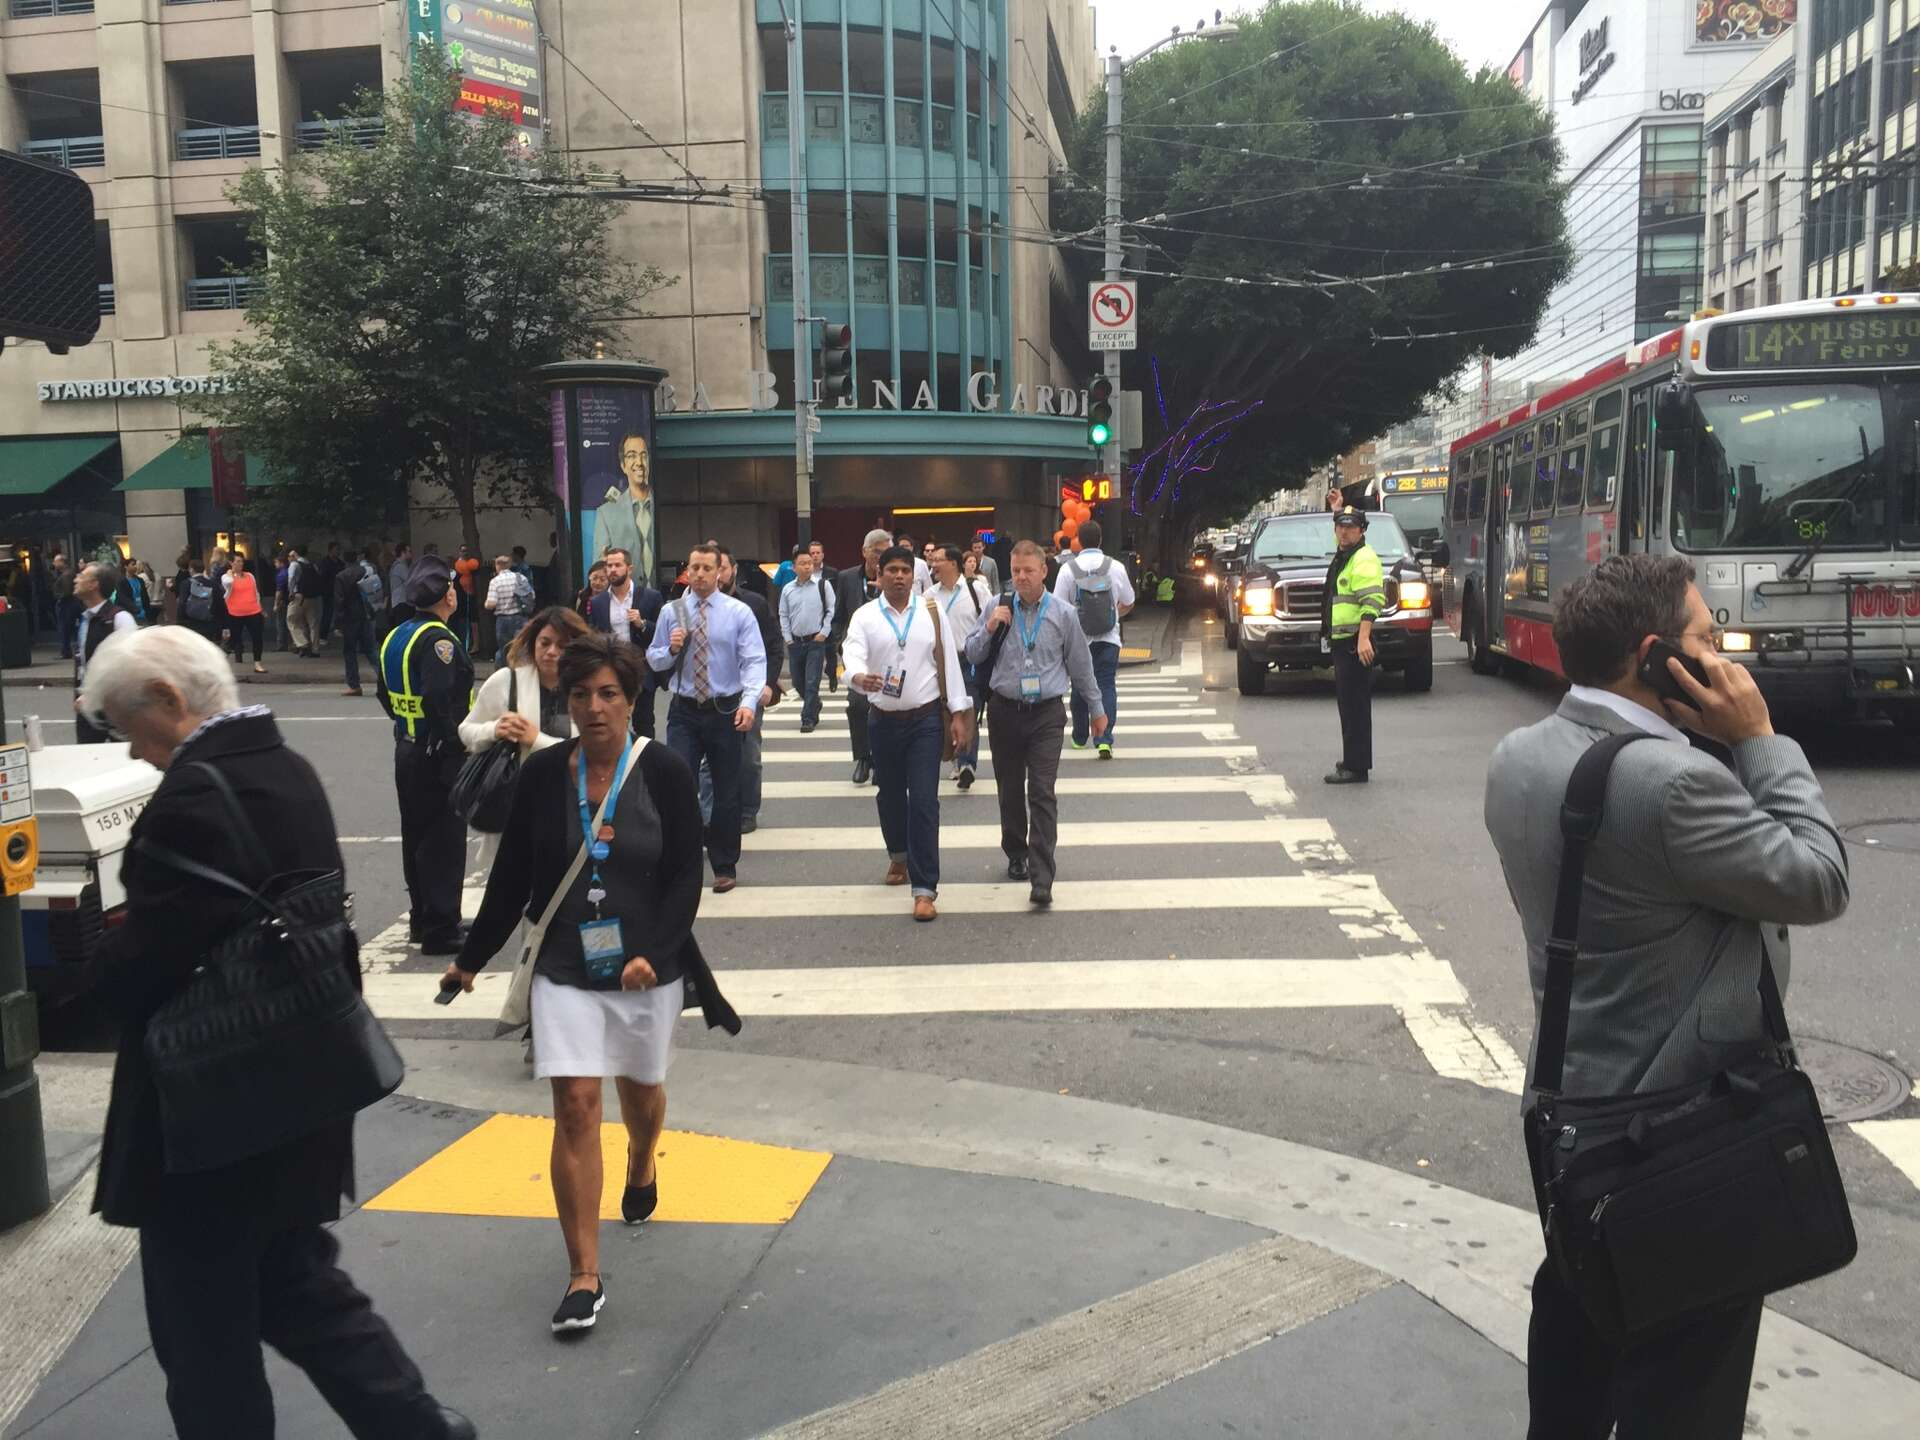person: (1479, 553, 1856, 1440), (75, 595, 386, 1440), (438, 635, 729, 1349), (963, 535, 1109, 916), (833, 537, 963, 928), (381, 553, 492, 980), (646, 535, 771, 895), (1302, 507, 1394, 791), (1067, 516, 1129, 772), (59, 560, 140, 741), (775, 541, 840, 728), (584, 537, 667, 662), (219, 551, 271, 674), (486, 547, 542, 658), (281, 543, 333, 666)
